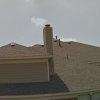Chimney: (36, 17, 61, 55)
